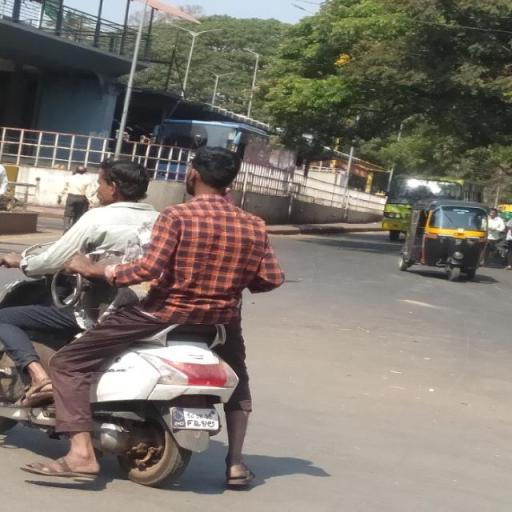bike: (6, 138, 288, 487)
numberplate: (171, 406, 221, 431)
withouthelmet: (188, 148, 240, 194), (100, 160, 149, 204)
